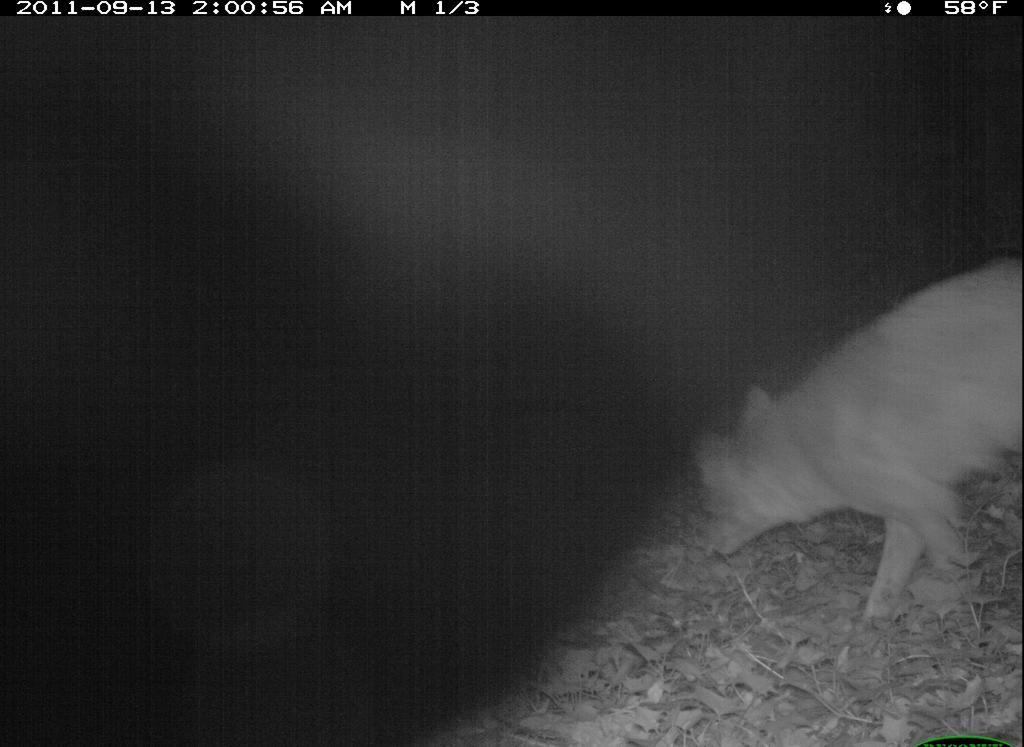coyote: (675, 245, 1019, 629)
